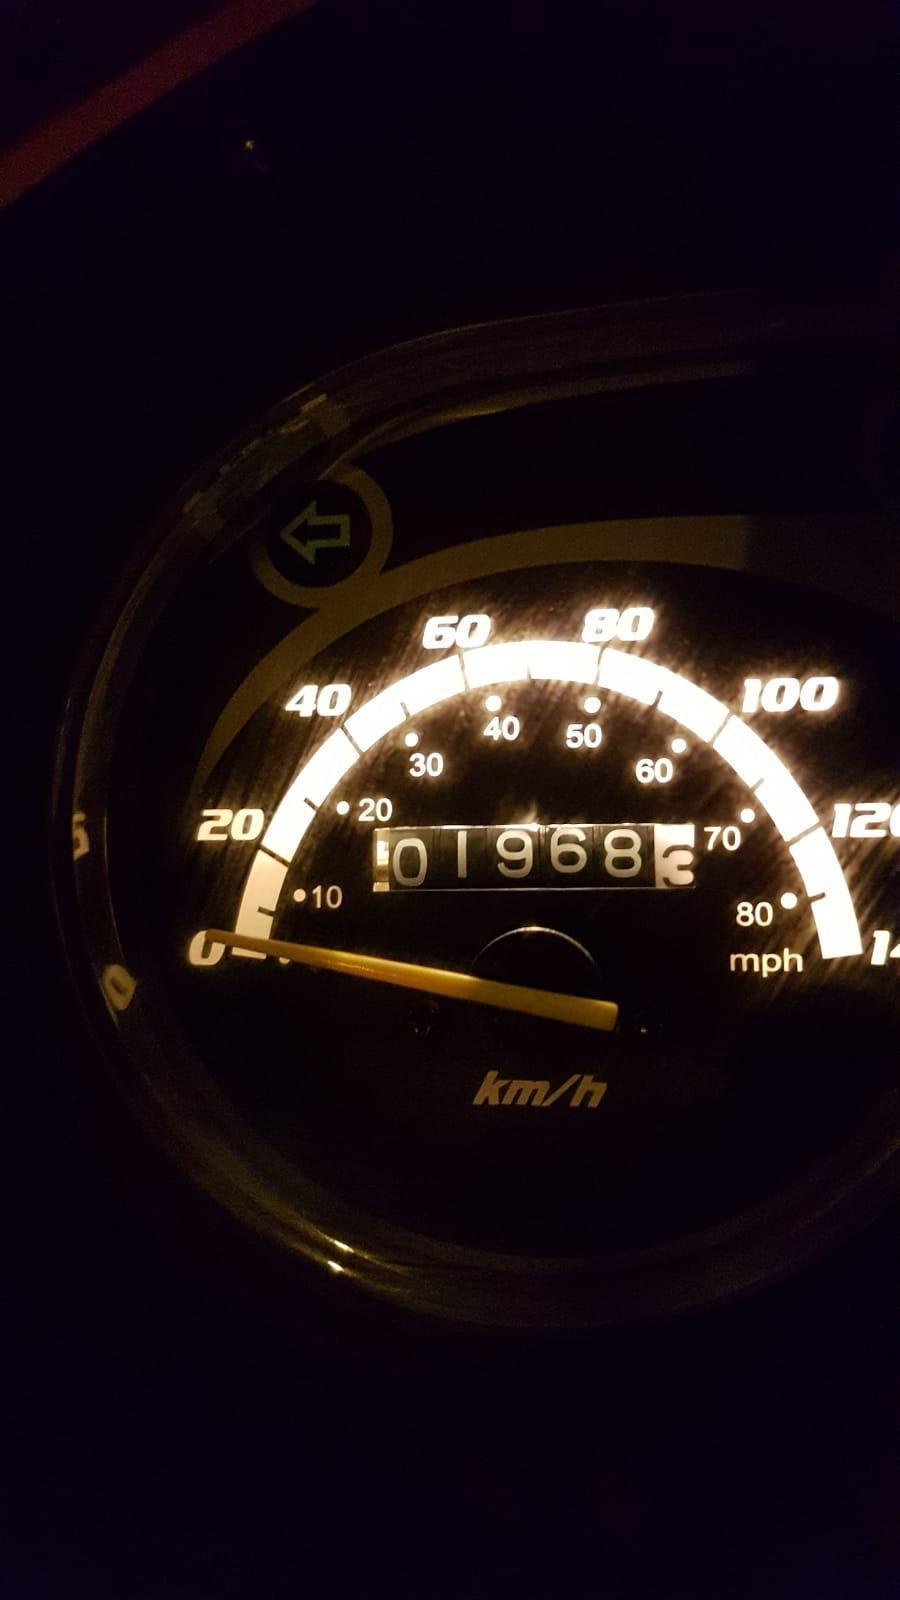0: (390, 835, 430, 888)
1: (451, 827, 473, 881)
3: (658, 841, 699, 890)
6: (547, 826, 589, 876)
8: (601, 827, 644, 880)
9: (493, 827, 535, 880)
odometer: (364, 816, 701, 899)
